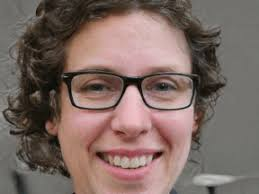person: (28, 2, 207, 194)
